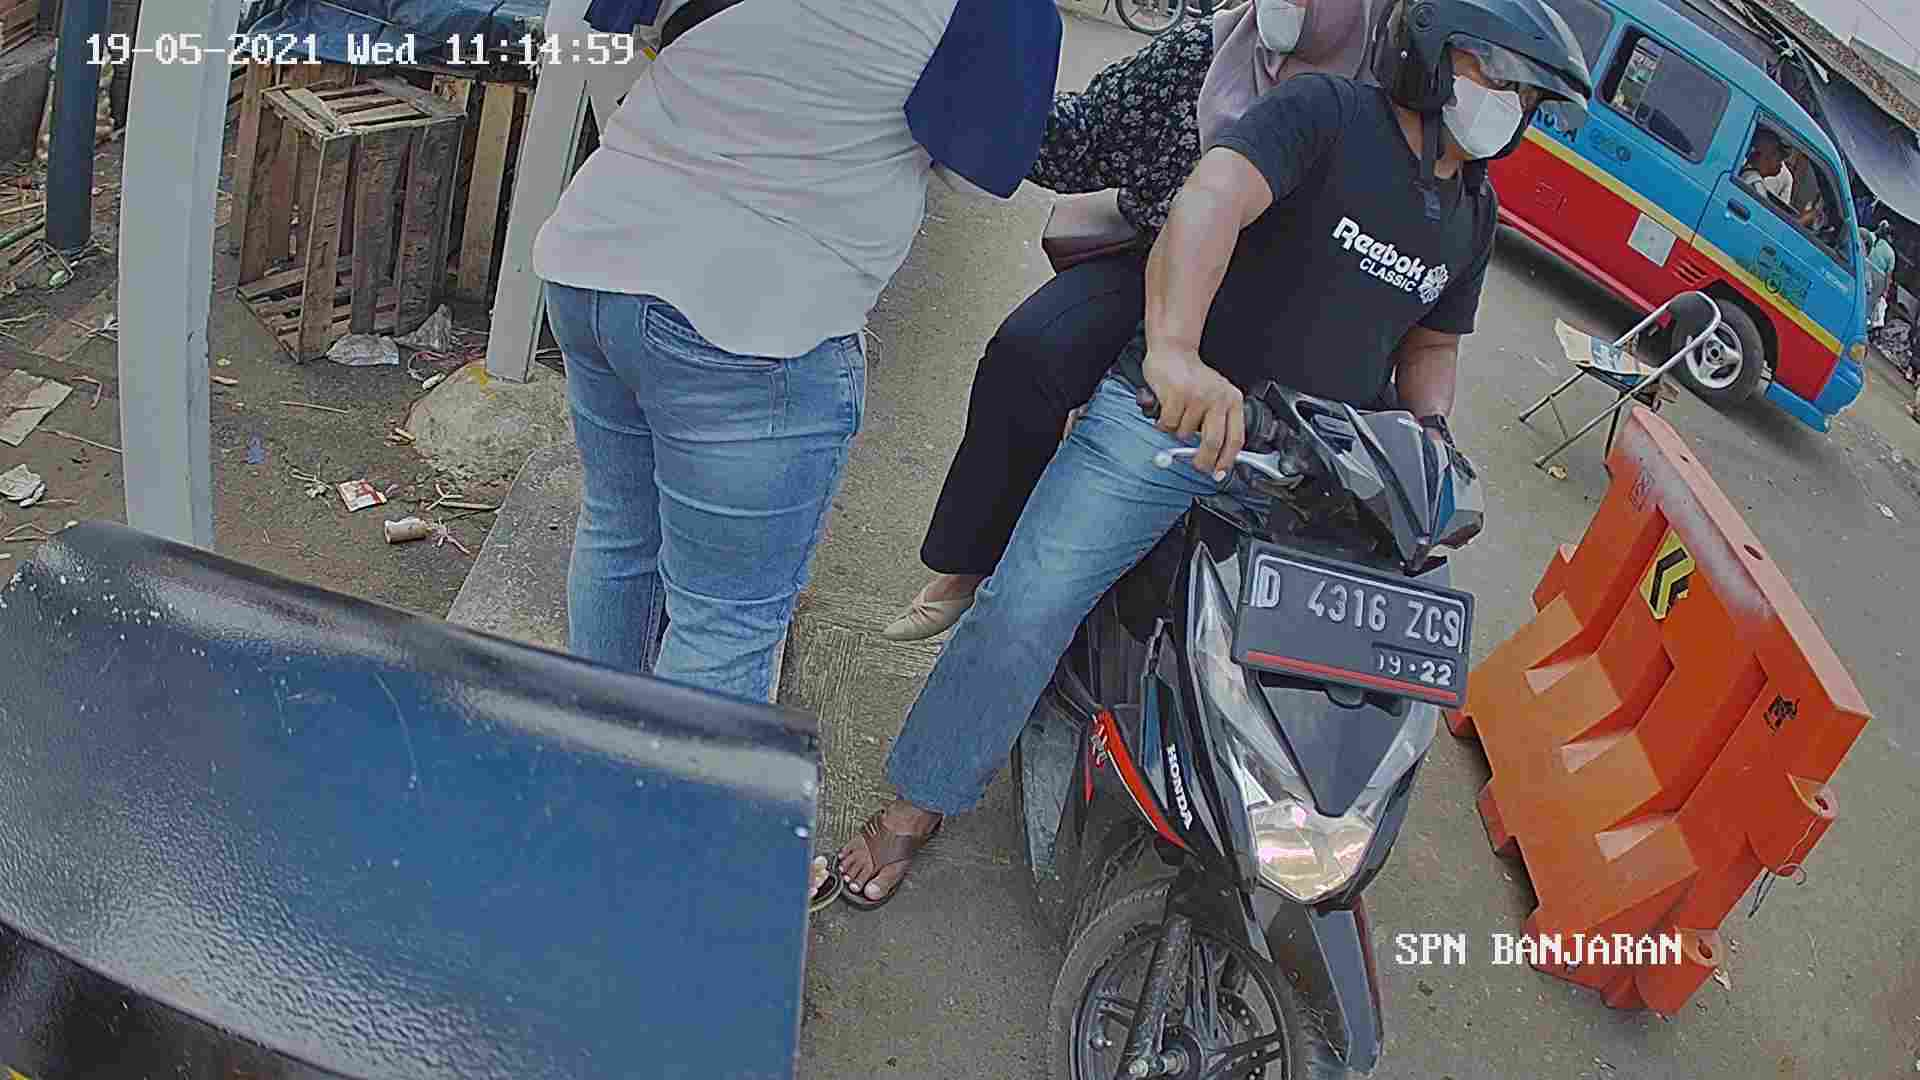motor: (1014, 369, 1455, 1080)
